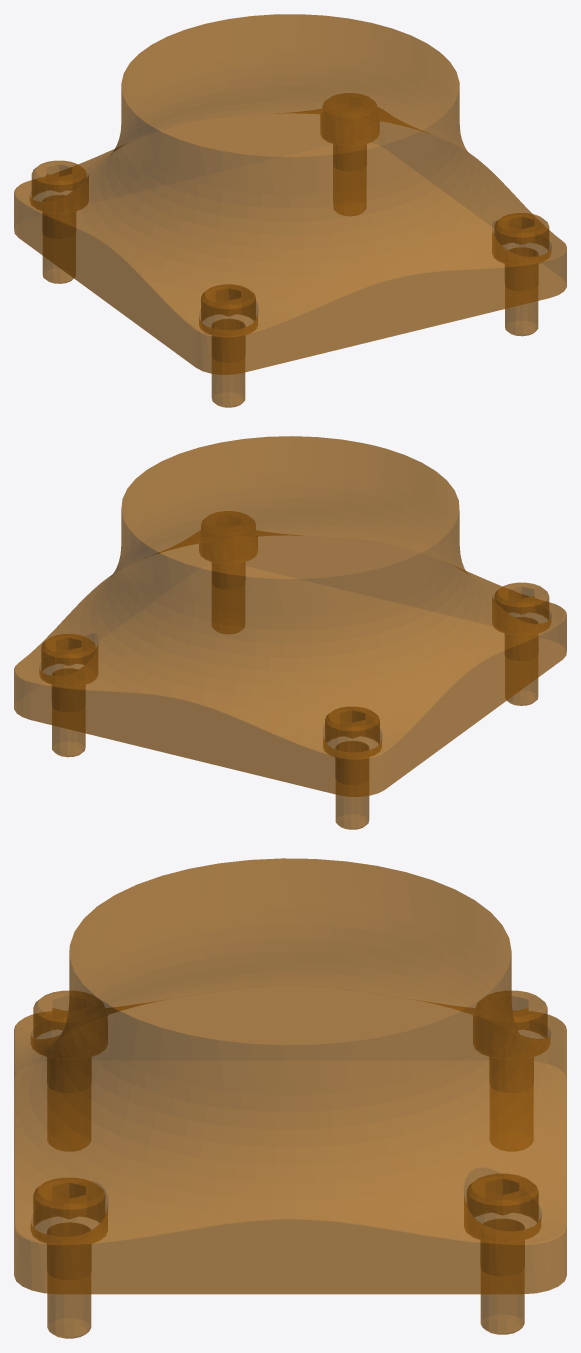
The picture shows the model from 3 angles, top to bottom: view 1: azimuth 30°, elevation 25°; view 2: azimuth 150°, elevation 25°; view 3: azimuth 270°, elevation 25°; orthographic projection. The views are drawn at different scales.
Parts seen in each view (by area): view 1: mesh_1_base_o; view 2: mesh_1_base_o; view 3: mesh_1_base_o.
Part boxes in pixels (x1=…): mesh_1_base_o: x1=14, y1=14, x2=566, y2=407; mesh_1_base_o: x1=14, y1=436, x2=566, y2=829; mesh_1_base_o: x1=14, y1=858, x2=566, y2=1338.
Size of the model in its own units: 0.1 by 0.057 by 0.1.
